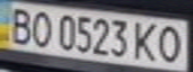0: (54, 11, 78, 52)
2: (90, 15, 112, 56)
3: (109, 17, 133, 60)
5: (72, 14, 93, 54)
B: (3, 4, 36, 45)
K: (130, 19, 160, 62)
O: (154, 22, 187, 64), (27, 8, 57, 47)
